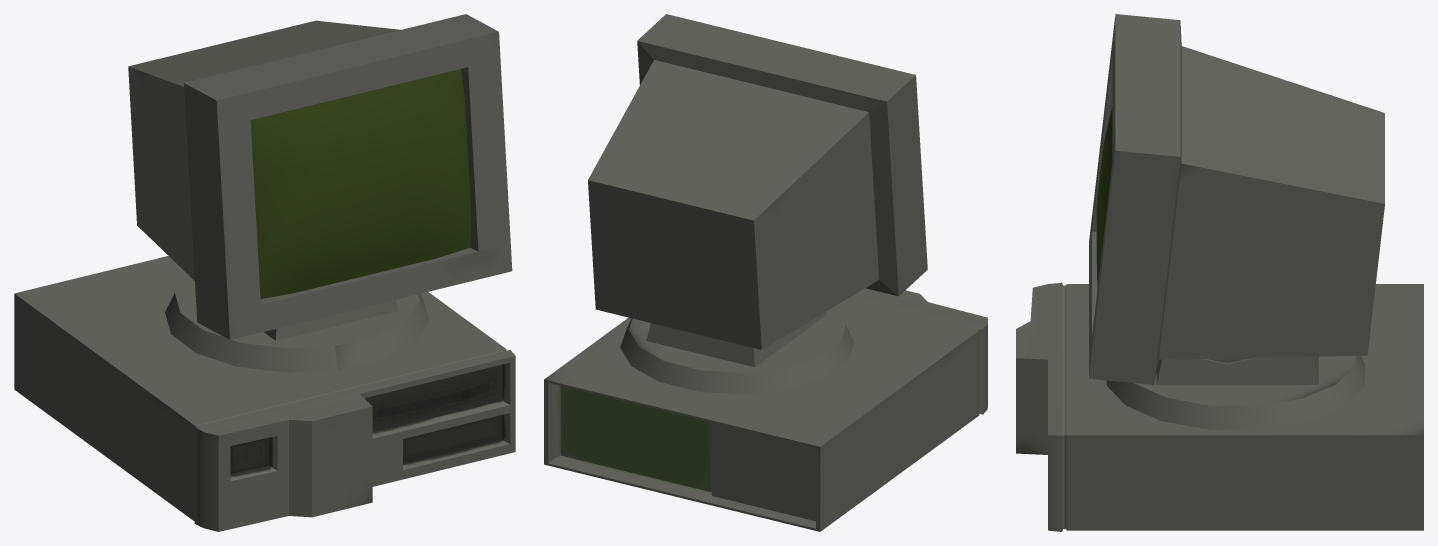
File: OldPC 1.fbx
3 views of the same model, side by side, from view 1: azimuth 30°, elevation 25°; view 2: azimuth 150°, elevation 25°; view 3: azimuth 270°, elevation 25° (orthographic). The views are drawn at different scales.
Visible parts, largest first — view 1: Comp.001, Monitor; view 2: Comp.001; view 3: Comp.001, Monitor.
Part boxes in pixels (x1=…): Comp.001: x1=14, y1=14, x2=515, y2=531; Monitor: x1=250, y1=69, x2=471, y2=298; Comp.001: x1=544, y1=14, x2=987, y2=531; Comp.001: x1=1016, y1=14, x2=1423, y2=531; Monitor: x1=1096, y1=107, x2=1112, y2=289.
Size of the model in its own units: 127 by 143 by 136.
Materials: 2 (1 with a texture image).
